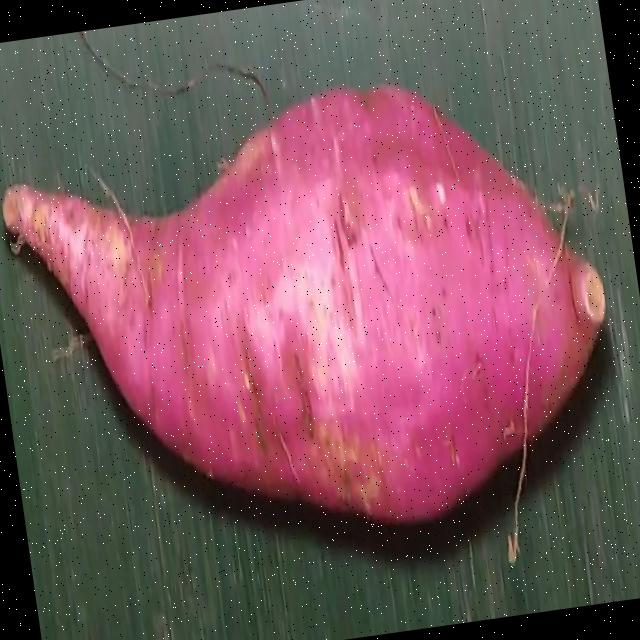Sweet Potato: (2, 81, 609, 525)
